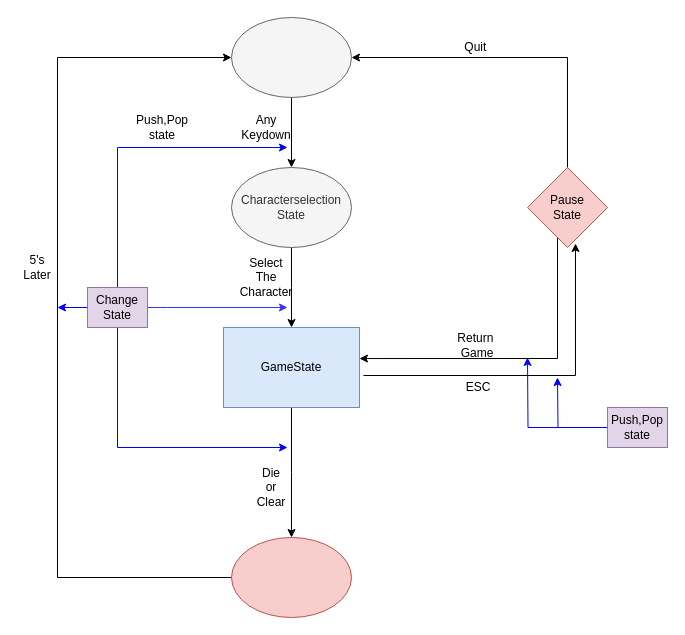
Image size: 685x635. Some labels were removed from this diagram. Here are the shapes that lost their labels. From the top down, the box of each, then its label:
(230, 16, 352, 98): TitleState
(230, 536, 352, 618): EndingState
